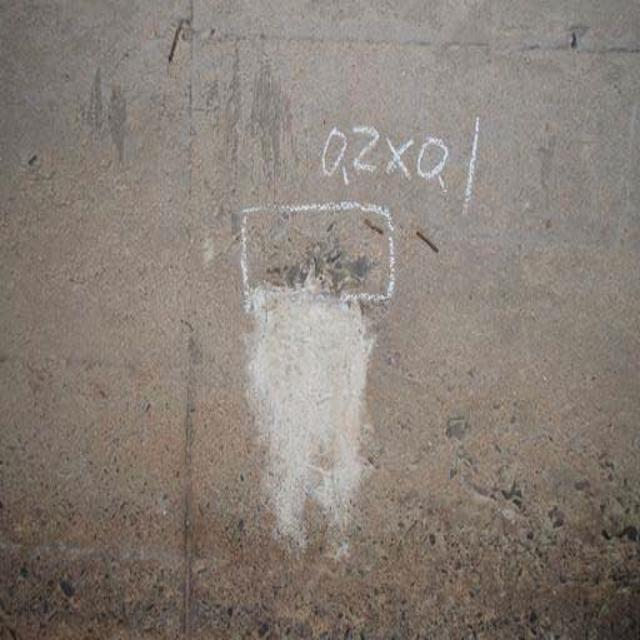freelime: (236, 260, 367, 544)
